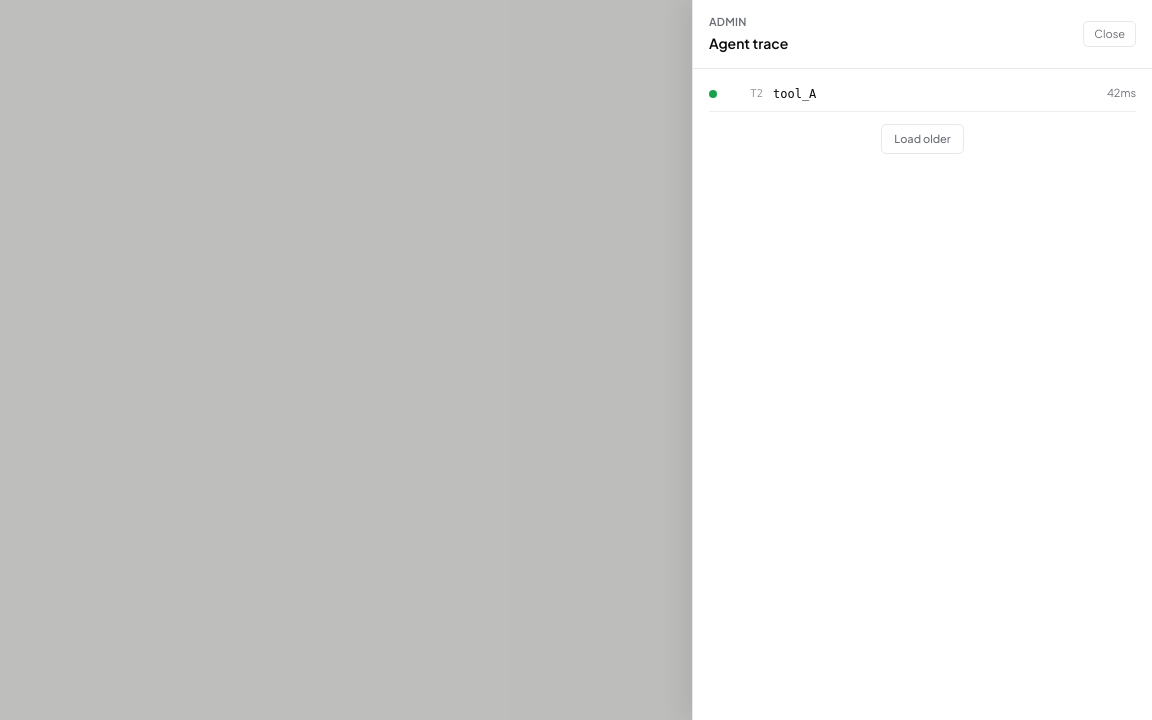
Test: TraceDrawer › shows Load older when nextCursor is set and fetches next page on click
Check: the text "tool_A" is shown, box x1=773 y1=86 x2=816 y2=100
Click the button "Load older": [922, 139] box x1=881 y1=124 x2=964 y2=154
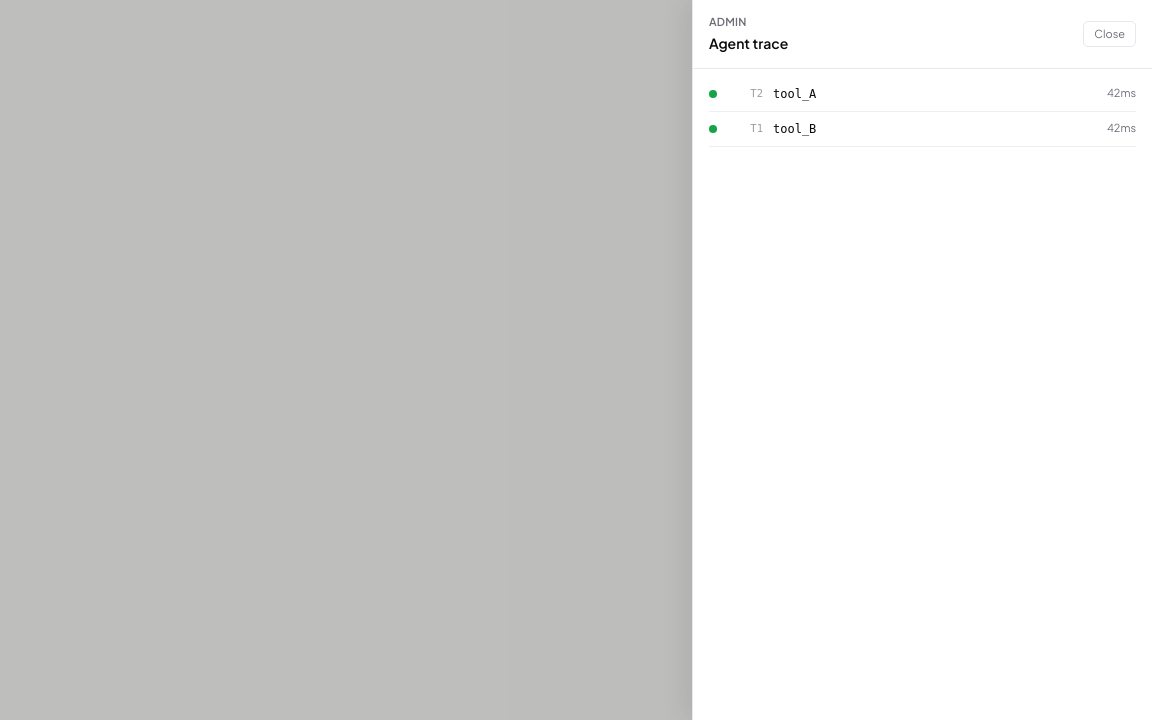
Check: the text "tool_B" is shown, box x1=773 y1=122 x2=816 y2=136
